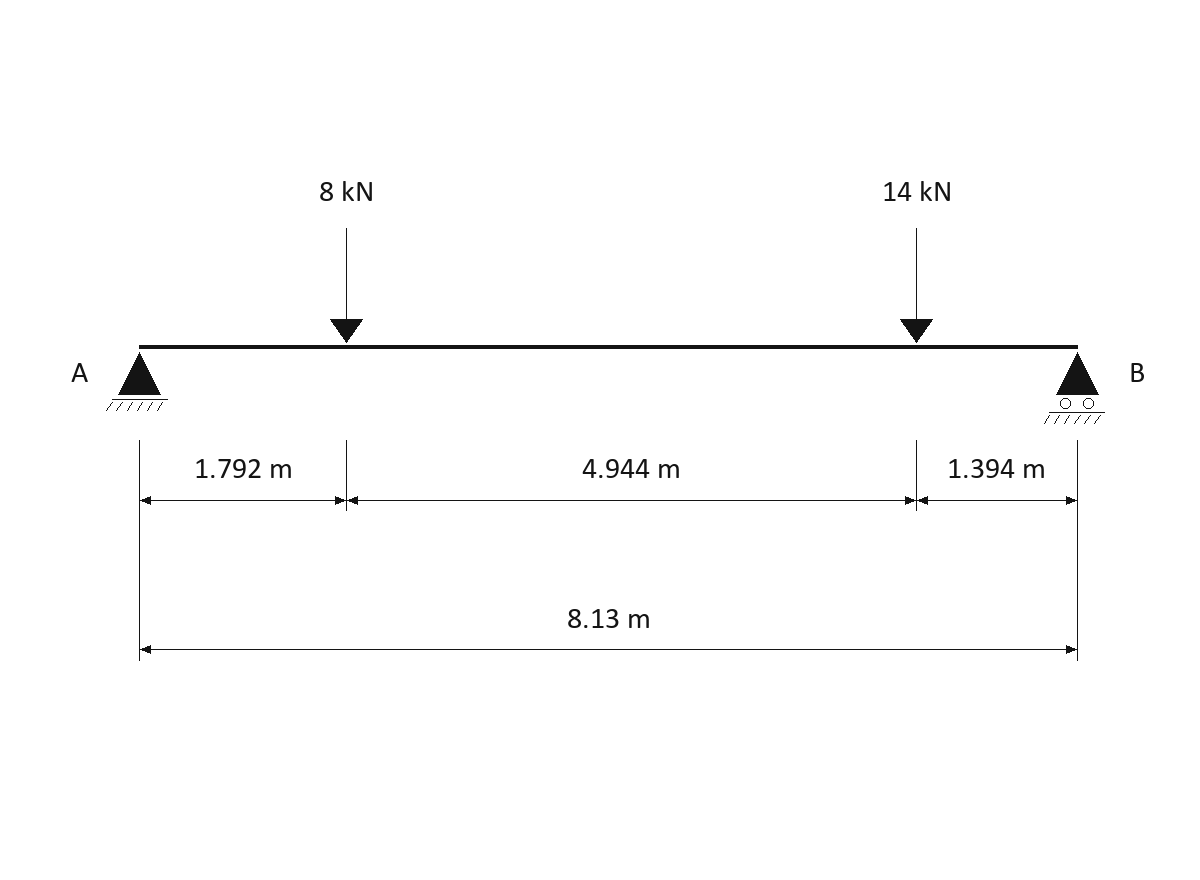pin_support: (106, 352, 168, 411)
point_load: (330, 228, 363, 343), (900, 228, 933, 343)
roller_support: (1044, 352, 1105, 424)
